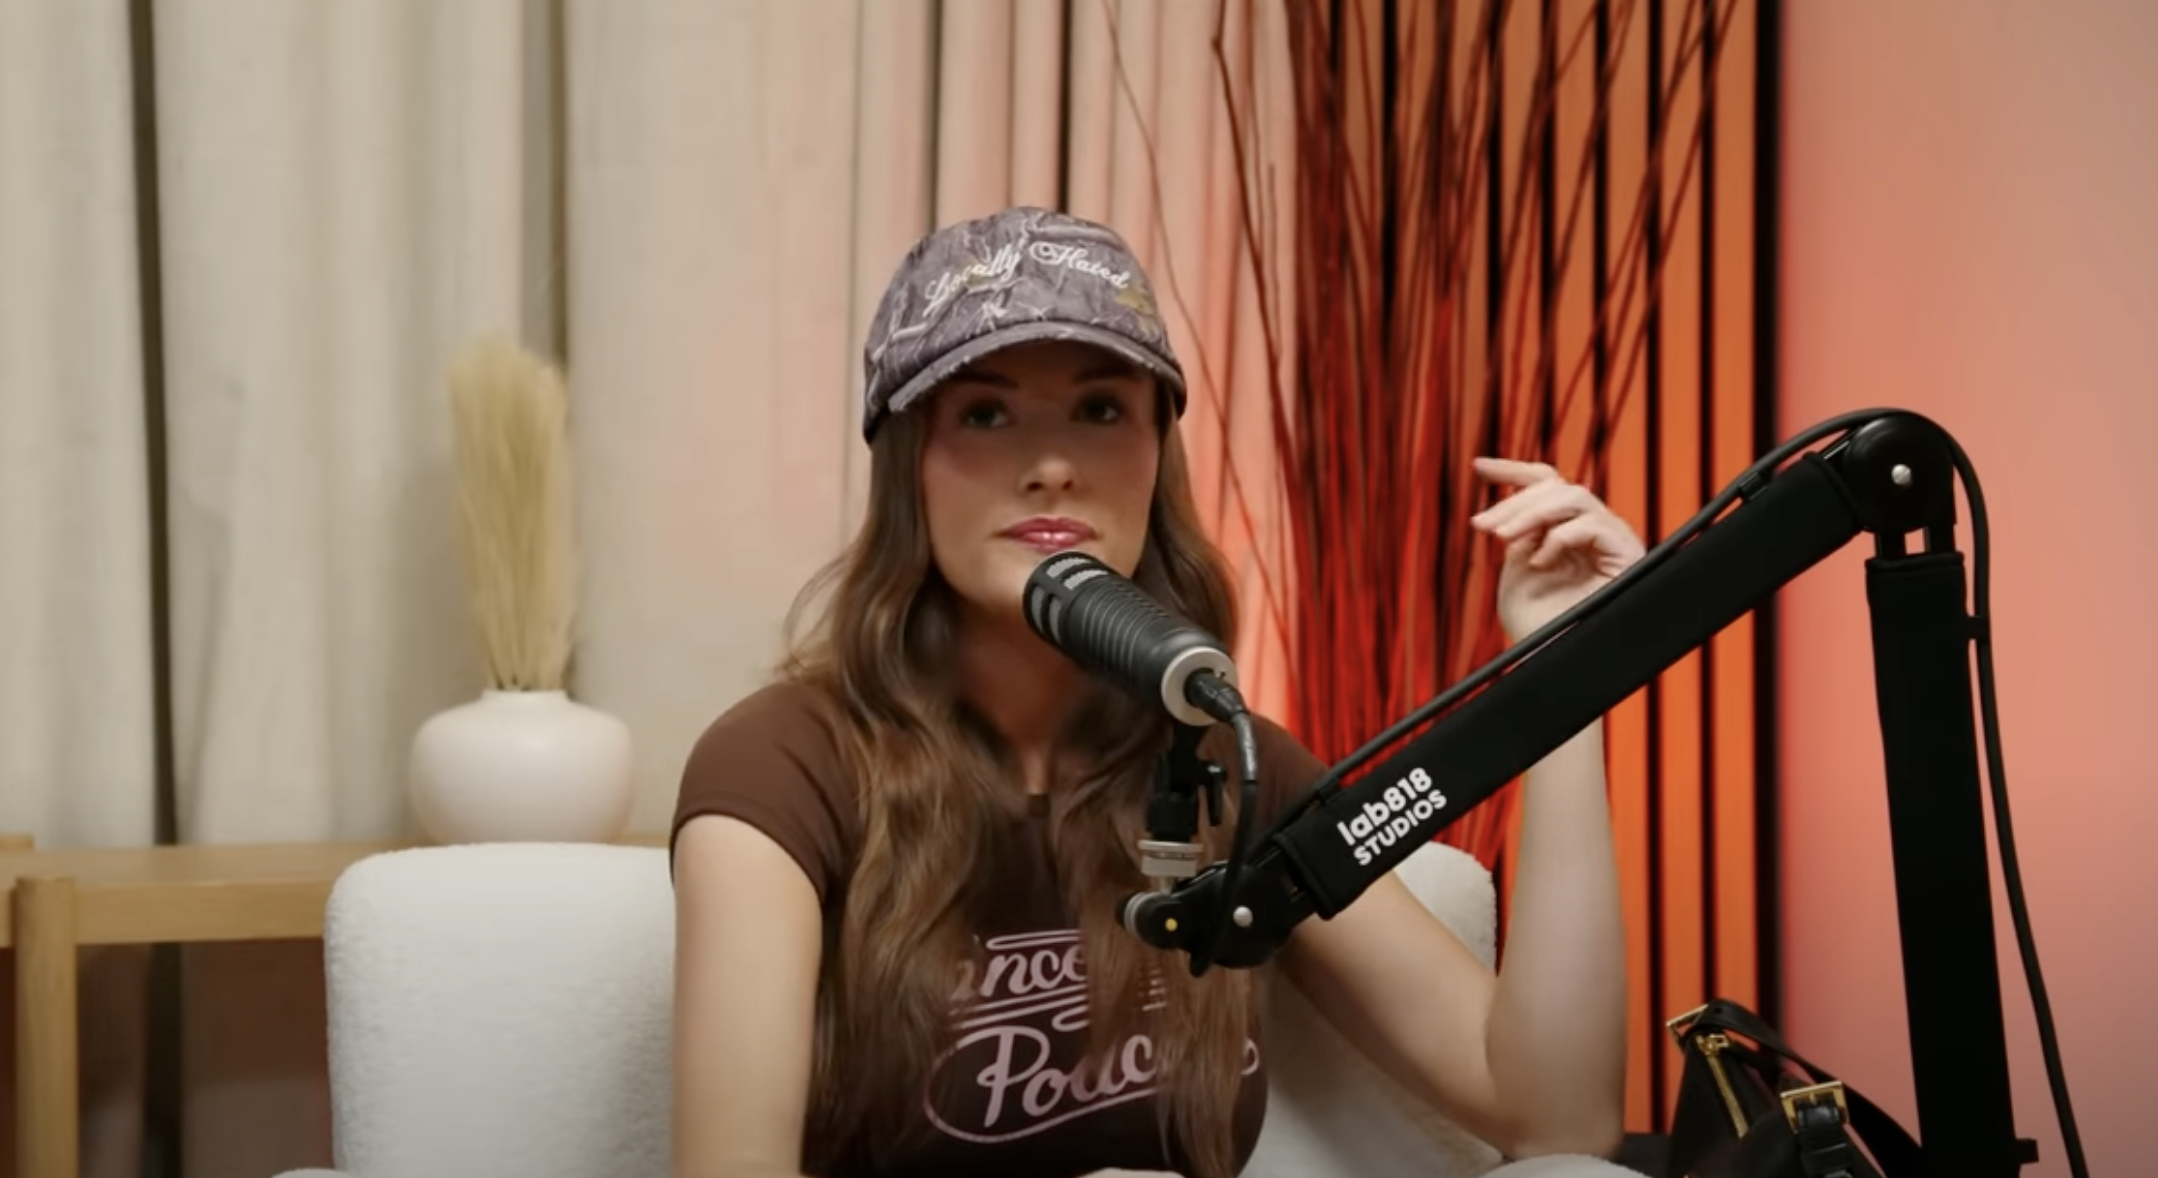person: (664, 203, 1652, 1174)
